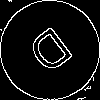D: (25, 25, 81, 84)
